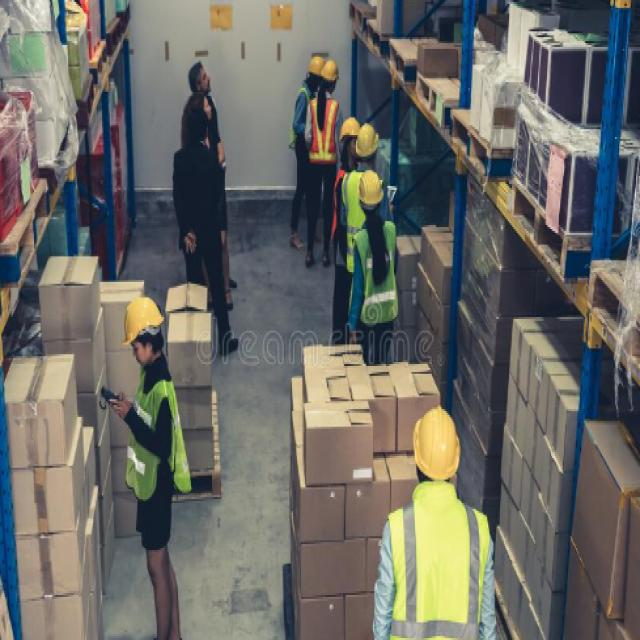hard_hat: (410, 404, 462, 485), (119, 296, 165, 362), (356, 170, 384, 221), (354, 122, 380, 166), (338, 114, 361, 154), (320, 59, 342, 94), (308, 55, 326, 89)
vest: (385, 479, 492, 640), (124, 363, 194, 501), (349, 221, 402, 326), (342, 173, 386, 277), (331, 170, 363, 272), (307, 96, 340, 169), (289, 85, 315, 152)
